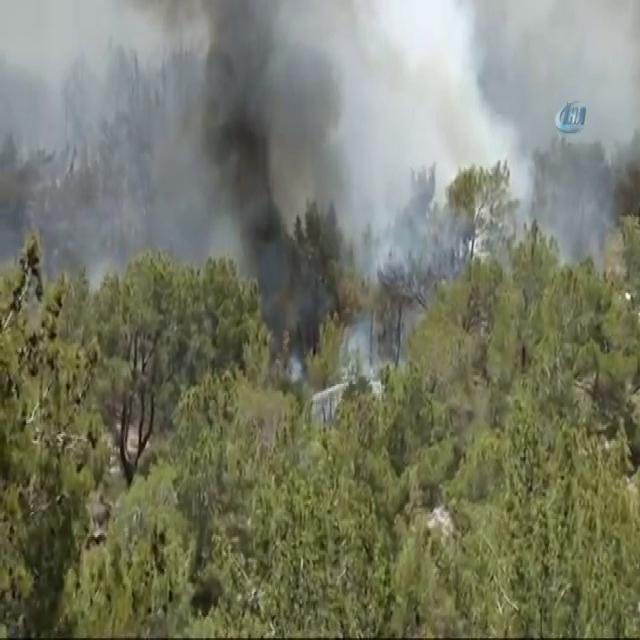Smoke: (109, 0, 571, 290)
